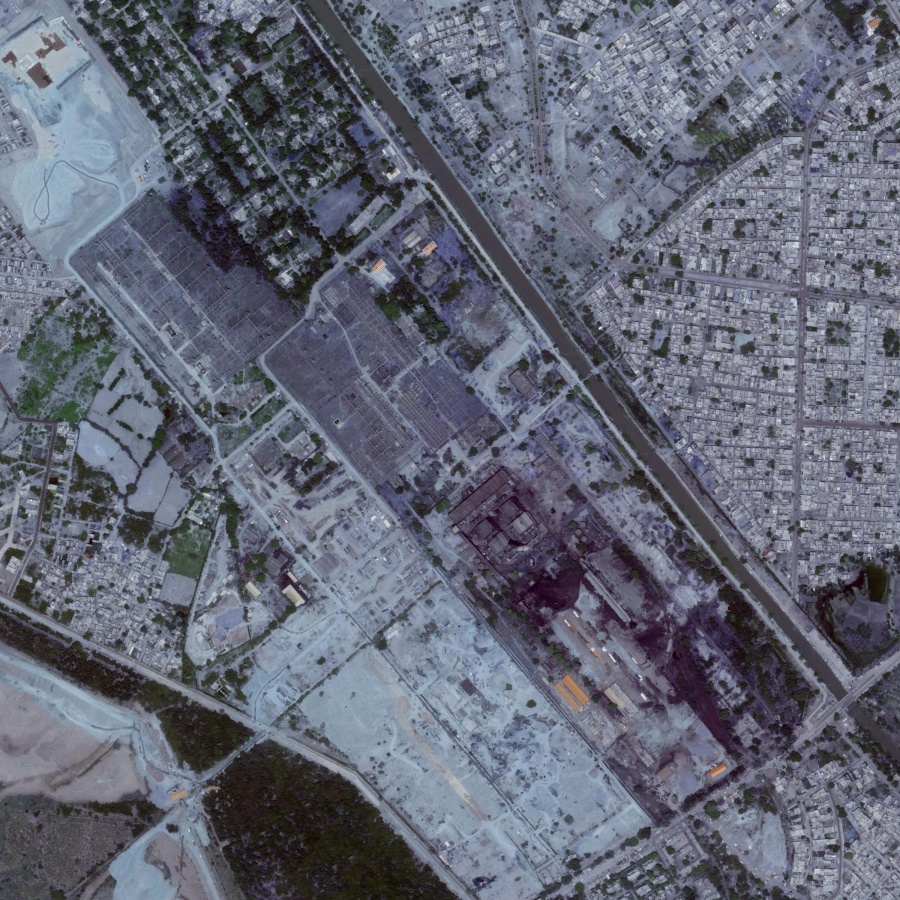PowerPlant: (449, 461, 748, 784)
